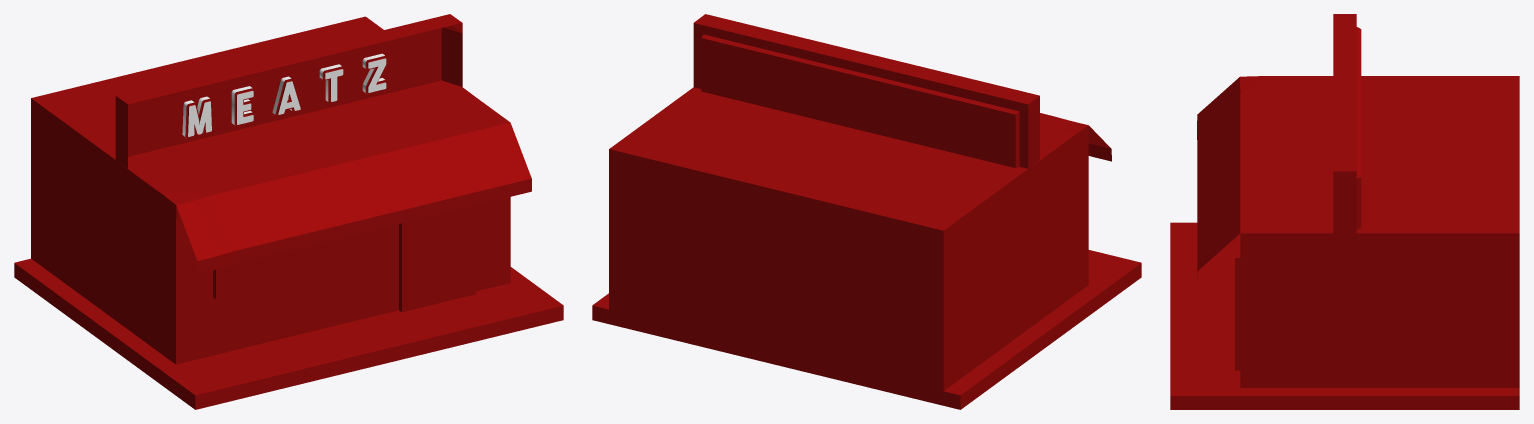
Rendered from Meatz_v03.fbx.
The picture shows the model from 3 angles, left to right: view 1: azimuth 30°, elevation 25°; view 2: azimuth 150°, elevation 25°; view 3: azimuth 270°, elevation 25°; orthographic projection. The views are drawn at different scales.
Visible parts, largest first — view 1: Cube, M; view 2: Cube; view 3: Cube.
Part boxes in pixels (x1=…): Cube: x1=14, y1=14, x2=563, y2=409; M: x1=182, y1=53, x2=386, y2=137; Cube: x1=592, y1=14, x2=1141, y2=409; Cube: x1=1170, y1=14, x2=1519, y2=409.
Bounding box in the file's own units: 440 × 274 × 375.
